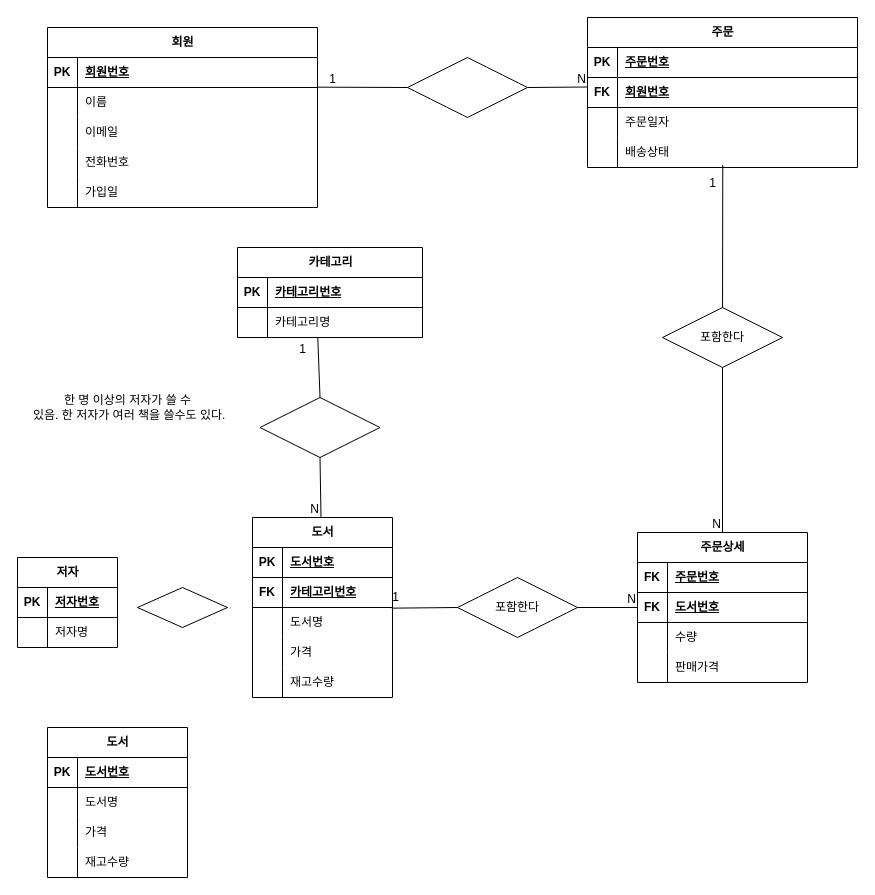
This 875x895 diagram has some shape labels left out. Here are the shapes that lost their labels. From the top down, the centre of each, then its label:
the point at 467,87: 주문하다
the point at 319,427: 분류한다
the point at 182,607: 저술한다
